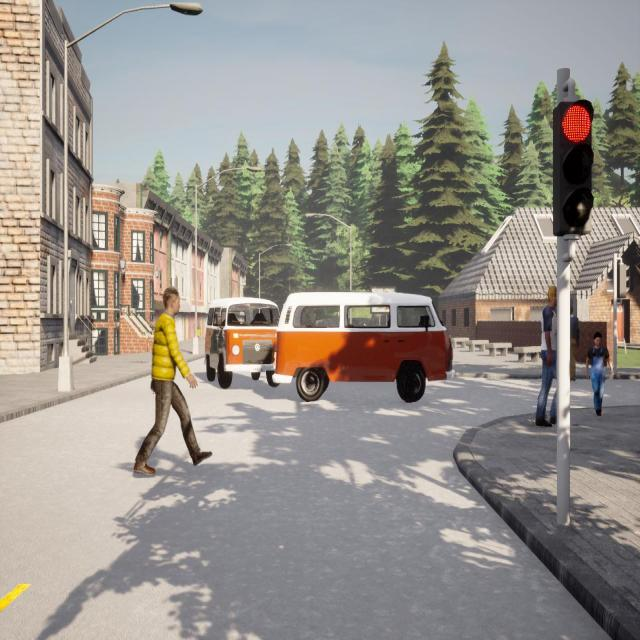Pedestrian: (133, 287, 211, 476), (536, 286, 558, 428), (585, 332, 615, 417), (570, 304, 581, 381), (197, 325, 201, 341)
Vehicle: (274, 292, 452, 402), (206, 299, 280, 388)
traffic_light: (553, 98, 593, 236), (617, 264, 630, 298)
